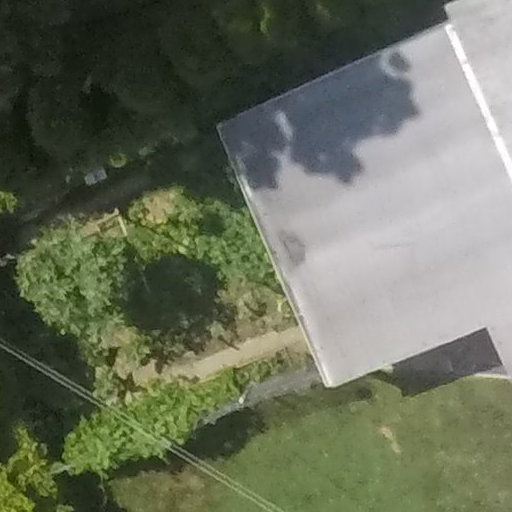container: (107, 152, 133, 166)
